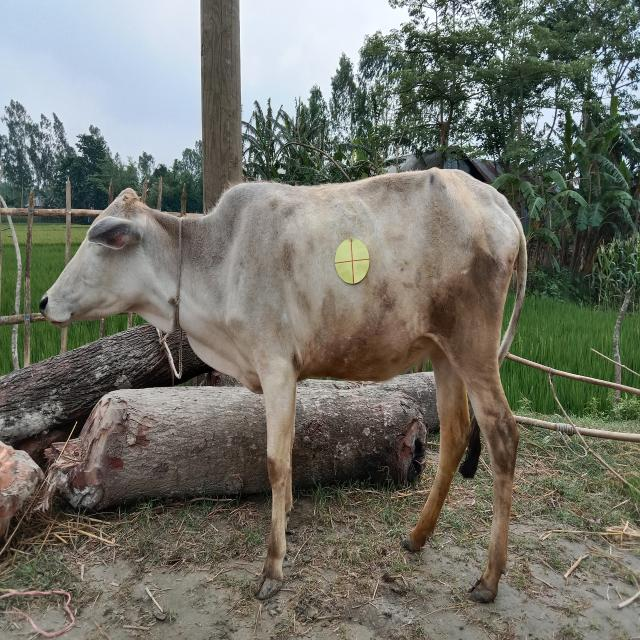badan_sapi: (220, 177, 506, 381)
sapi: (32, 154, 581, 624)
